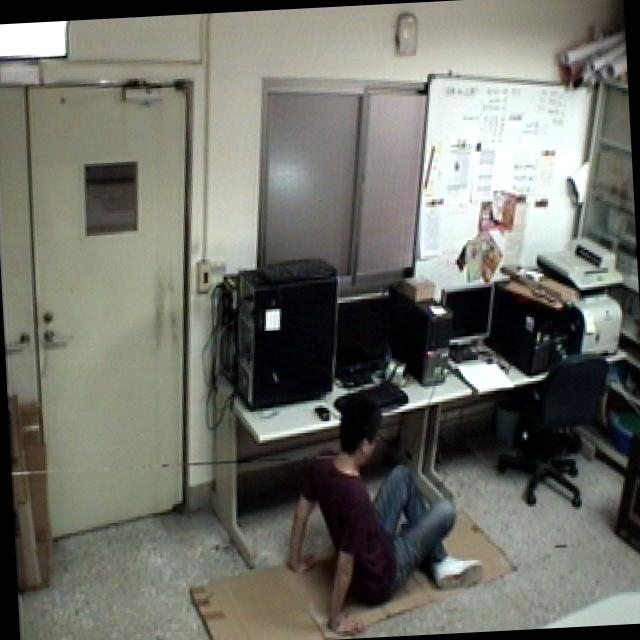sit: (273, 378, 490, 640)
